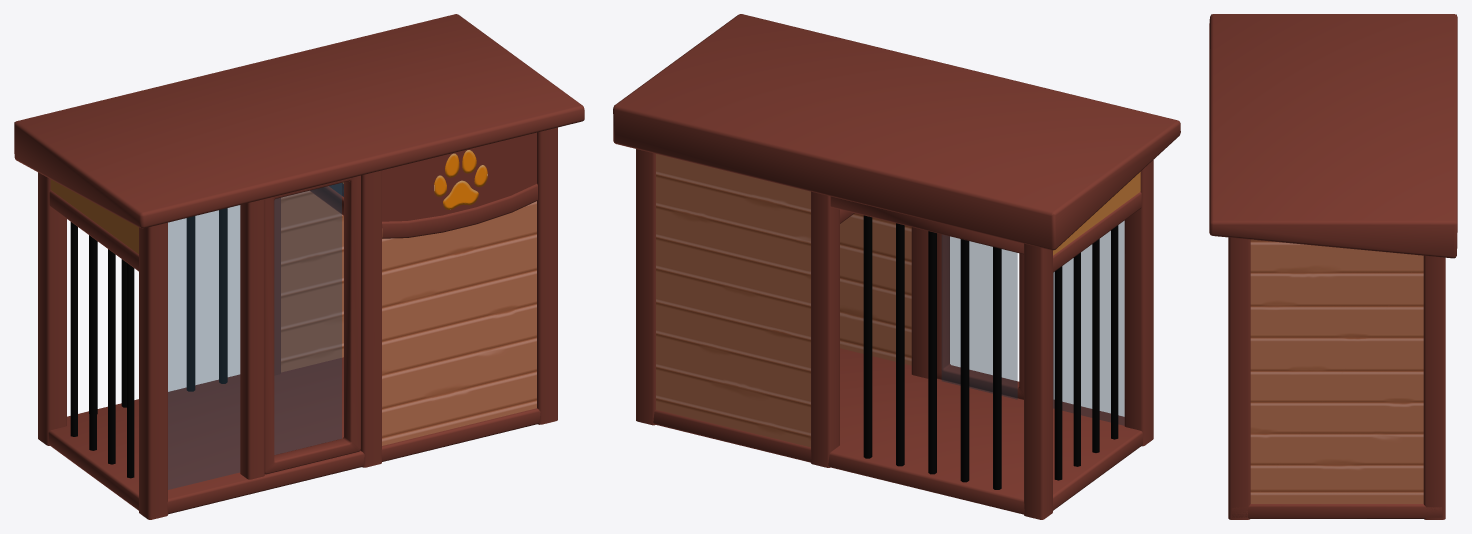
File: SM_Props_Dog_Cage.fbx
3 renders of one model, left to right at view 1: azimuth 30°, elevation 25°; view 2: azimuth 150°, elevation 25°; view 3: azimuth 270°, elevation 25°, orthographic. The views are drawn at different scales.
Visible parts, largest first — view 1: SM_Props_Dog_Cage; view 2: SM_Props_Dog_Cage; view 3: SM_Props_Dog_Cage.
Part boxes in pixels (x1,y1,x2,y2): SM_Props_Dog_Cage: [14, 14, 584, 519]; SM_Props_Dog_Cage: [613, 14, 1180, 519]; SM_Props_Dog_Cage: [1209, 14, 1457, 519].
Bounding box in the file's own units: 3.37 × 2.3 × 1.69.
